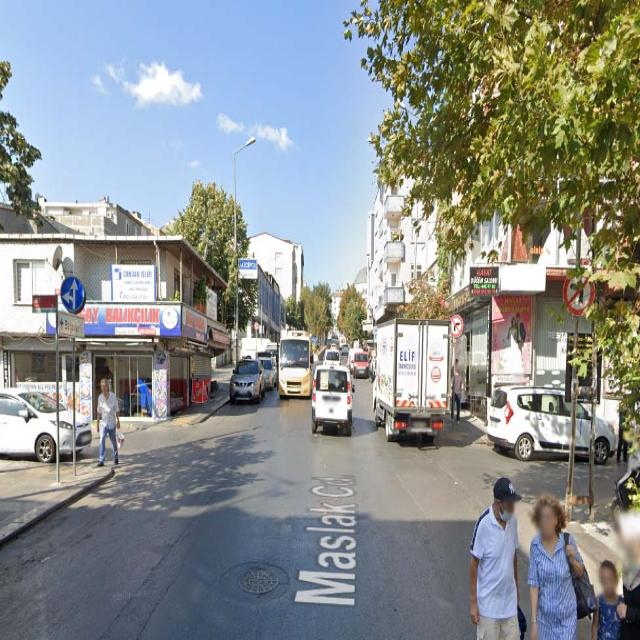ilerisol: (61, 278, 84, 314)
sagadonulmez: (449, 316, 462, 338)
soladonulmez: (563, 269, 595, 316)
